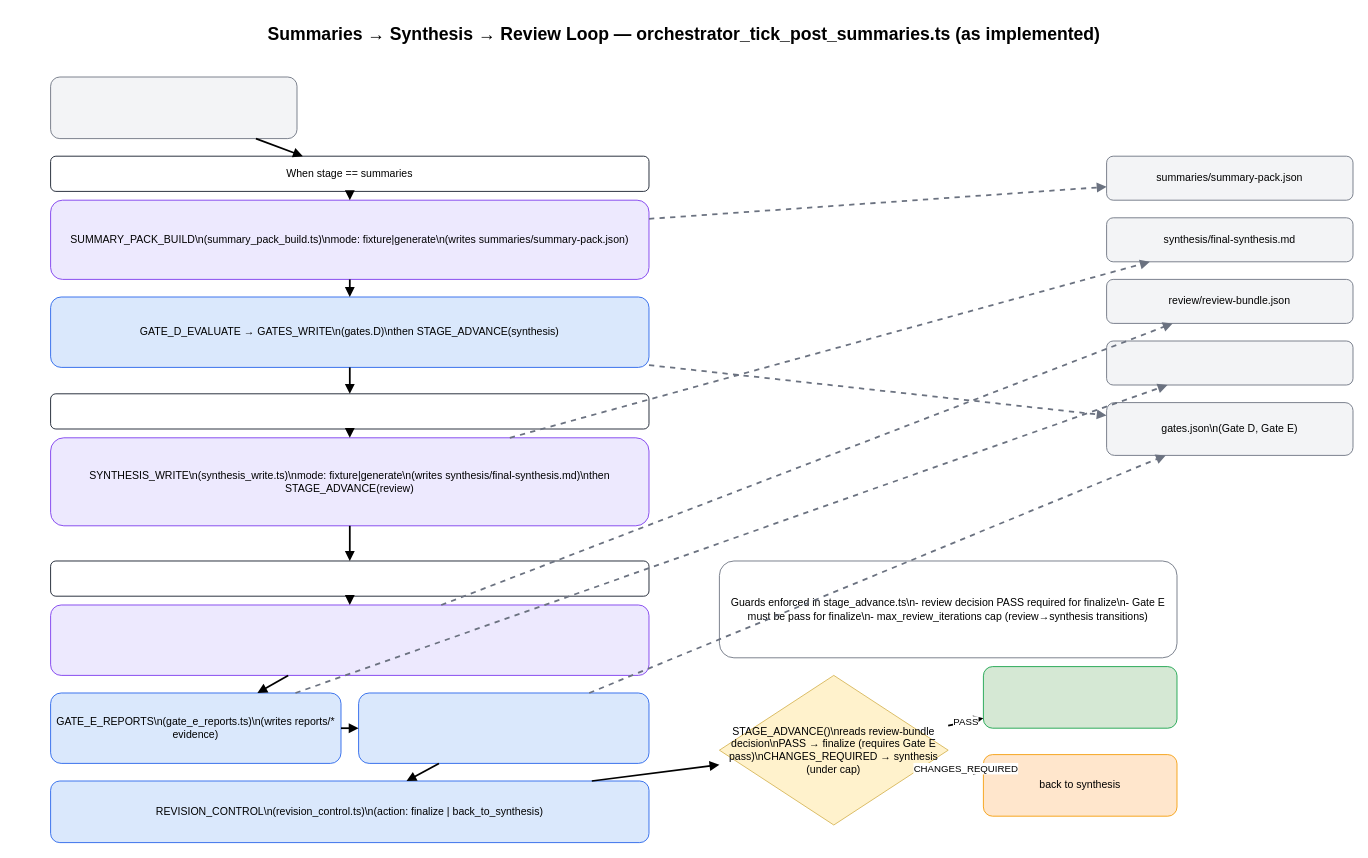
This 1368x858 diagram has some shape labels left out. The box of each missing label's shape, as (x1, y1, x2, y2) in pixels:
AcquireRunLock + heartbeat\nrun_lock.ts: (50, 76, 297, 139)
finalize: (983, 666, 1177, 728)
GATE_E_EVALUATE → GATES_WRITE\n(gates.E): (358, 692, 649, 763)
reports/gate-e-*.json: (1106, 340, 1353, 385)
REVIEW_FACTORY_RUN\n(review_factory_run.ts)\n(writes review/review-bundle.json): (50, 604, 649, 675)
When stage == review (review loop): (50, 560, 649, 596)
When stage == synthesis: (50, 393, 649, 429)
